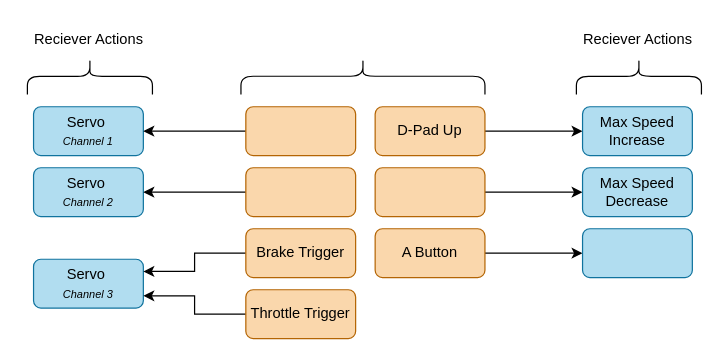
Some shapes in this 725 by 360 pixel diagram are drawn without their labels. The shapes that lost their labels are listed below. From the top down, each one's centre as x and y in pixels, then its label:
(362,76): Gamepad Events
(300,131): Left Analog Y axis
(300,192): Left Analog X axis
(429,192): D-Pad Down
(636,253): Brake
